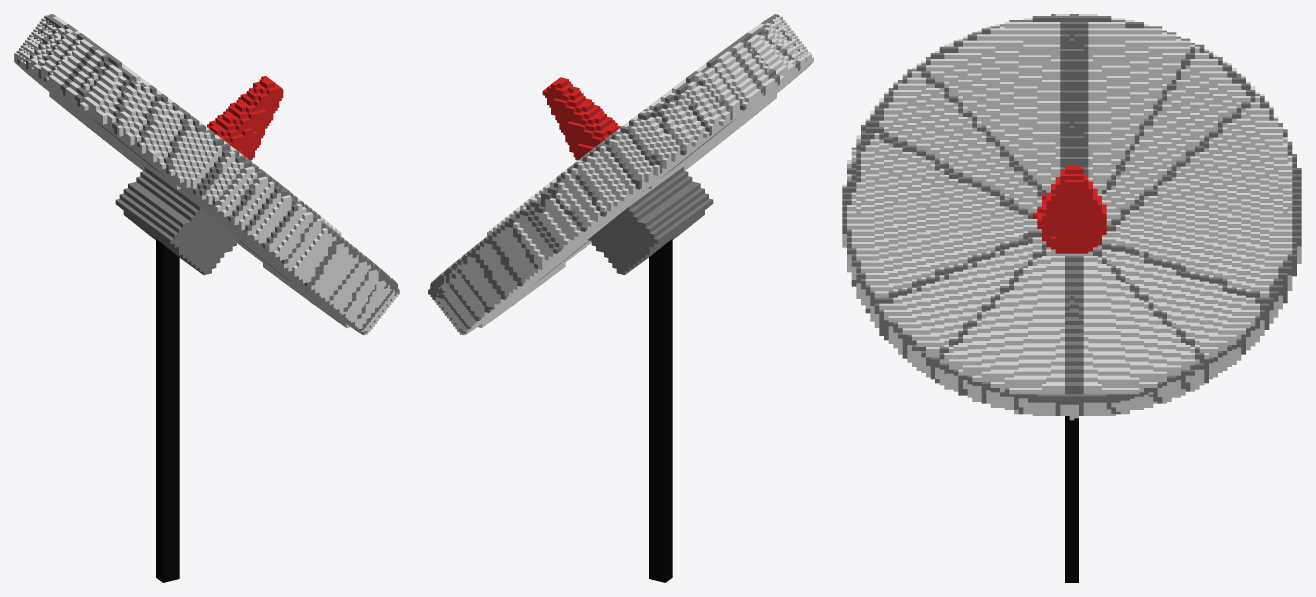
Rendered from antena parte alta.fbx.
3 views of the same model, side by side, from view 1: azimuth 30°, elevation 25°; view 2: azimuth 150°, elevation 25°; view 3: azimuth 270°, elevation 25° (orthographic). The views are drawn at different scales.
Parts seen in each view (by area): view 1: antena parte alta; view 2: antena parte alta; view 3: antena parte alta.
Boxes of the visible parts, <box> form: antena parte alta: <box>14,14,399,582</box>; antena parte alta: <box>428,14,813,582</box>; antena parte alta: <box>842,14,1301,582</box>.
Bounding box in the file's own units: 690 × 1260 × 990.
